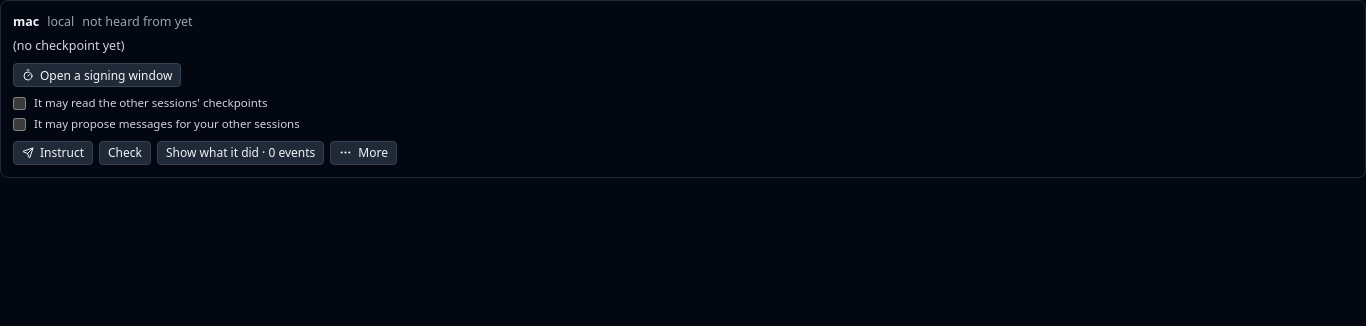
Test: the signing window on a link's card › says why when the server refuses the window after the touch, and keeps saying it once it is made again
Click the button "Open a signing window".
click(97, 75)  # box 13,63 -> 181,87
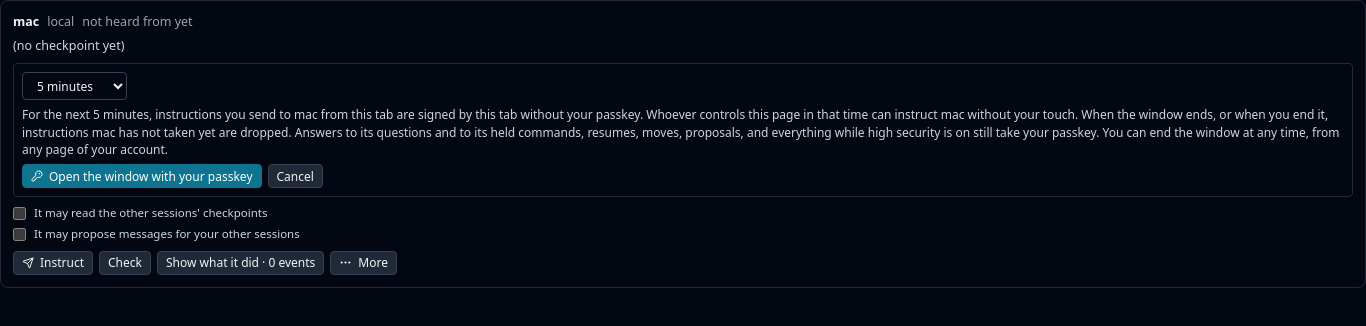
Expected: the button "Open the window with your passkey" is enabled
Click the button "Open the window with your passkey".
click(142, 176)  # box 22,164 -> 262,188
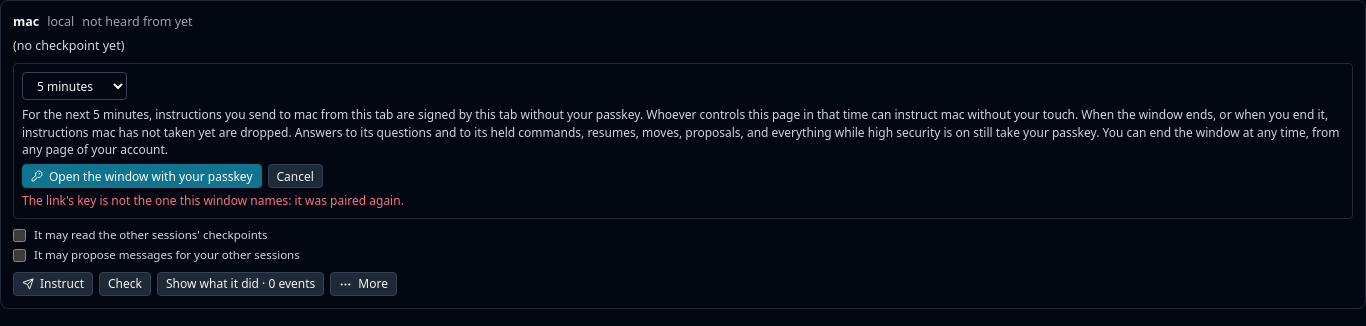
Expected: the button "Open the window with your passkey" is enabled, 22,164 -> 262,188
Expected: the text "The link's key is not the one this window names: it was paired again." is shown, 22,192 -> 404,209
